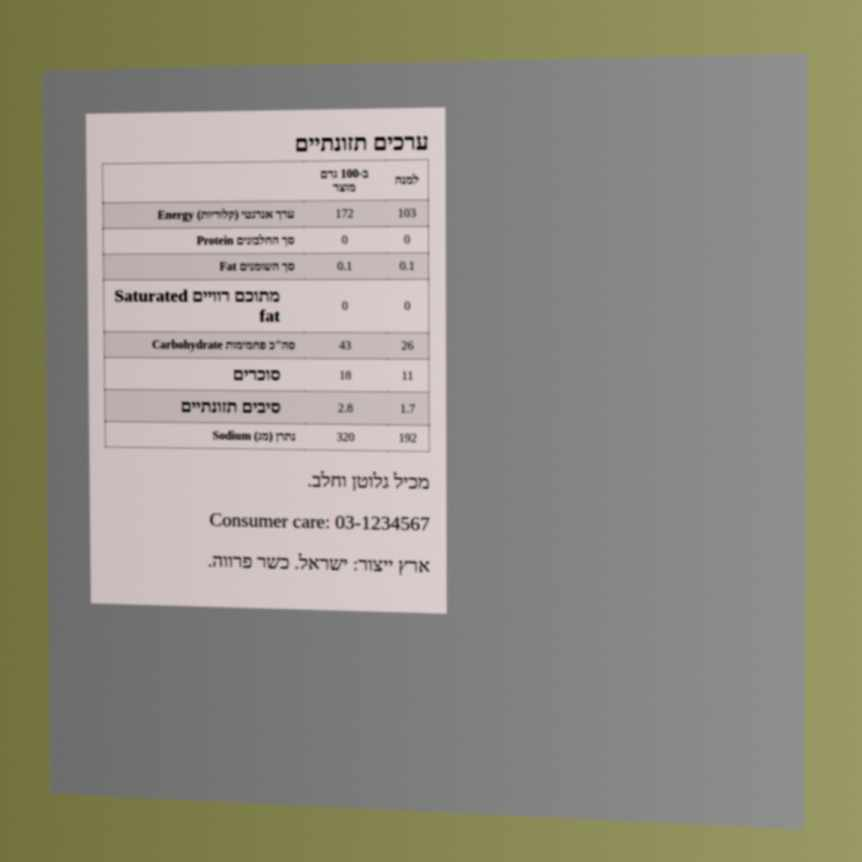carbs: (338, 337, 353, 353)
energy: (334, 205, 355, 221)
fat: (336, 258, 354, 274)
protein: (340, 232, 349, 248)
